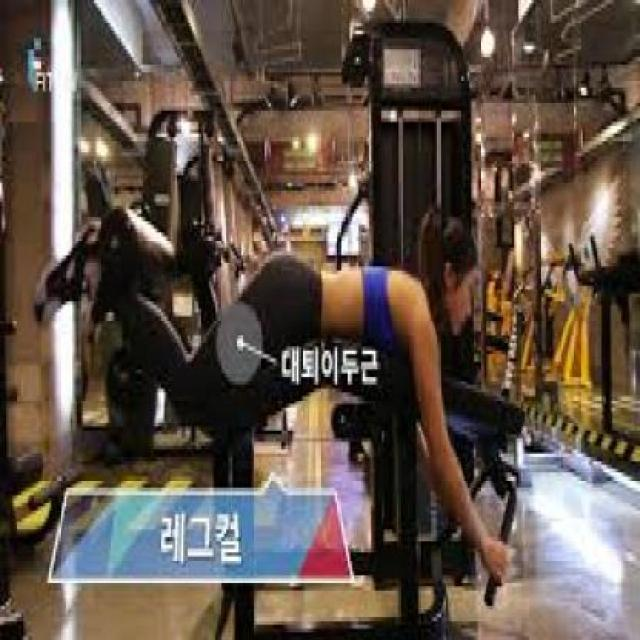reg curl machine: (32, 158, 534, 611)
